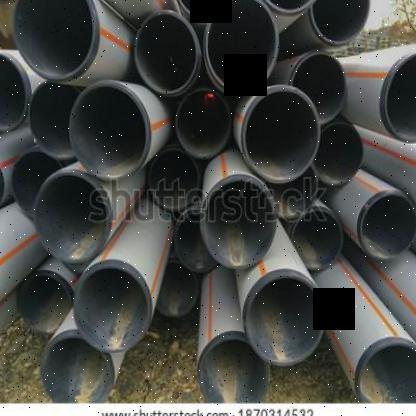pipe: (69, 82, 149, 181), (243, 86, 320, 183), (244, 274, 325, 366), (35, 172, 110, 264), (74, 264, 151, 352), (204, 0, 278, 91), (203, 180, 277, 268), (12, 0, 94, 79), (134, 10, 198, 96), (41, 335, 114, 404), (198, 336, 269, 404), (11, 150, 66, 226), (291, 53, 347, 125), (28, 81, 79, 159), (175, 89, 232, 157), (357, 340, 416, 404), (360, 192, 416, 258), (18, 270, 73, 336), (146, 257, 202, 320), (312, 124, 365, 186), (146, 150, 200, 210), (292, 210, 342, 270), (384, 52, 416, 143), (173, 212, 217, 274), (309, 0, 370, 43), (0, 52, 28, 130), (175, 0, 232, 19), (259, 0, 318, 11)
